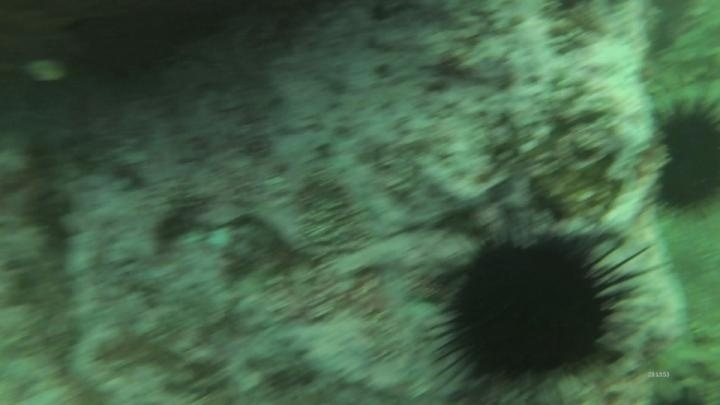echinus: (428, 225, 639, 395), (647, 94, 720, 220)
